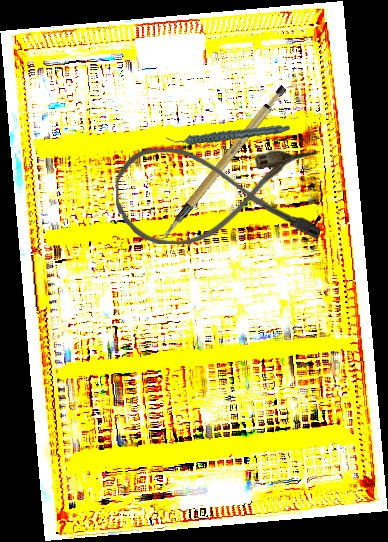Cannula: (116, 149, 320, 244)
Handpiece: (165, 109, 291, 158)
Scalpel Handle: (141, 82, 305, 238)
